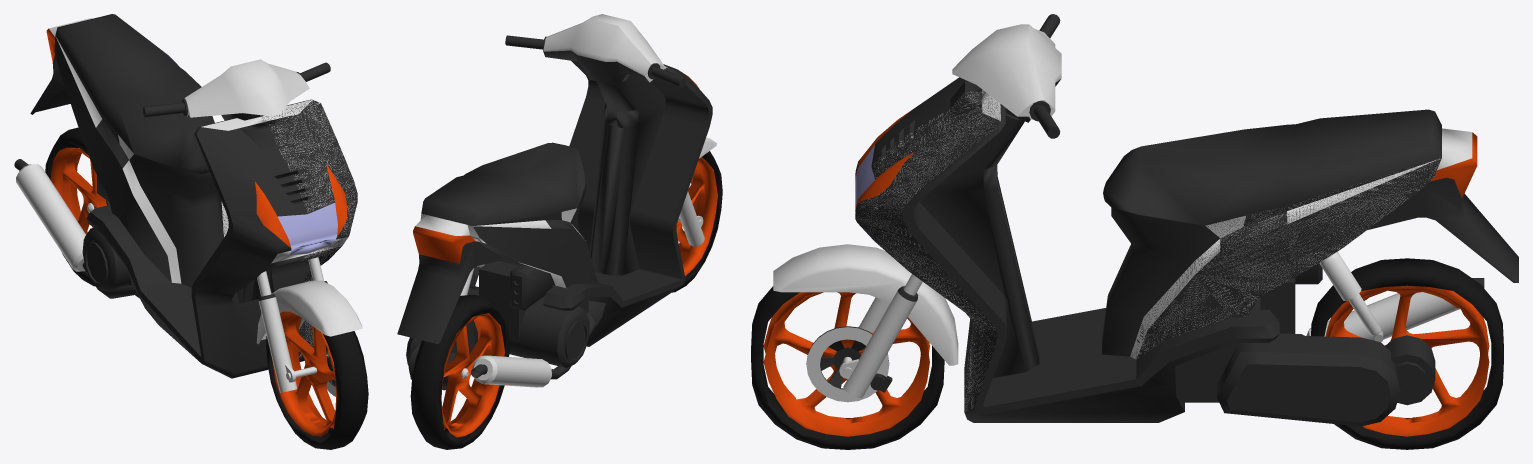
File: beat.glb
3 views of the same model, side by side, from view 1: azimuth 30°, elevation 25°; view 2: azimuth 150°, elevation 25°; view 3: azimuth 270°, elevation 25° (orthographic). The views are drawn at different scales.
Parts seen in each view (by area): view 1: body, fork_front, roda_F, roda_R; view 2: body, roda_R, fork_front, roda_F; view 3: body, fork_front, roda_R, roda_F.
Boxes of the visible parts, bbox=[...] form: body: bbox=[14, 14, 357, 379]; fork_front: bbox=[143, 59, 362, 396]; roda_F: bbox=[266, 311, 368, 449]; roda_R: bbox=[45, 127, 106, 286]; body: bbox=[397, 60, 712, 390]; roda_R: bbox=[410, 294, 509, 449]; fork_front: bbox=[505, 14, 716, 246]; roda_F: bbox=[672, 151, 722, 292]; body: bbox=[843, 77, 1518, 426]; fork_front: bbox=[773, 14, 1061, 402]; roda_R: bbox=[1311, 258, 1503, 449]; roda_F: bbox=[751, 286, 944, 449].
Size of the model in its own units: 0.663 by 1.11 by 1.88.
